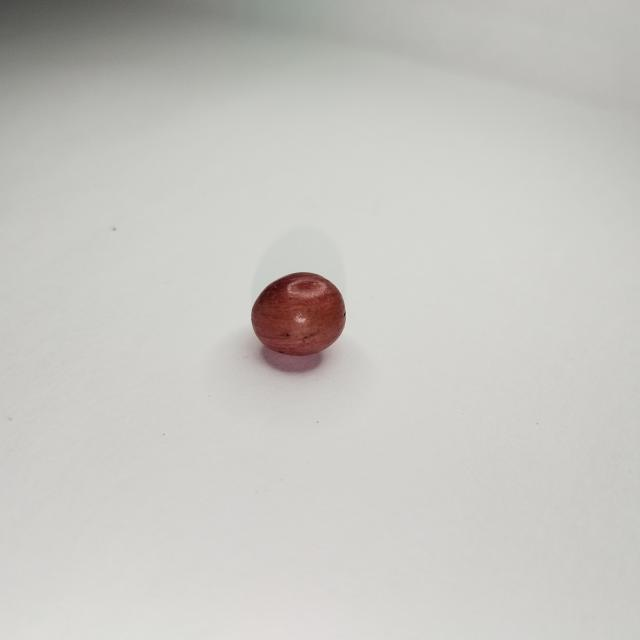Sano: (251, 272, 345, 358)
